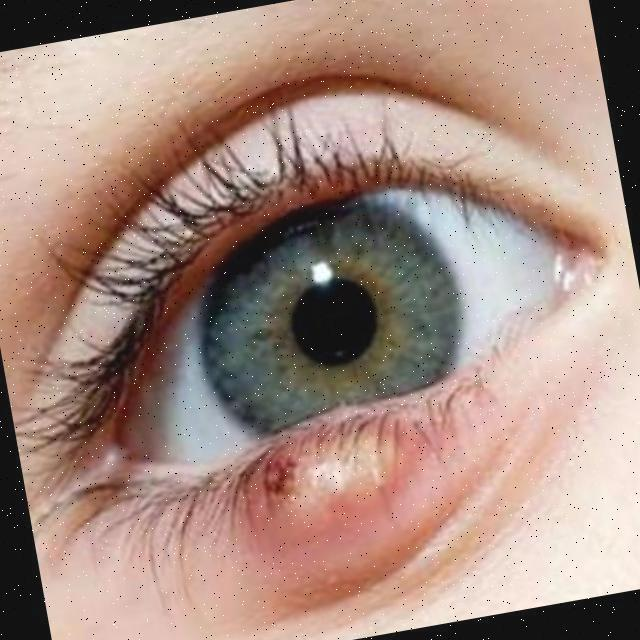Stye: (143, 368, 525, 622)
